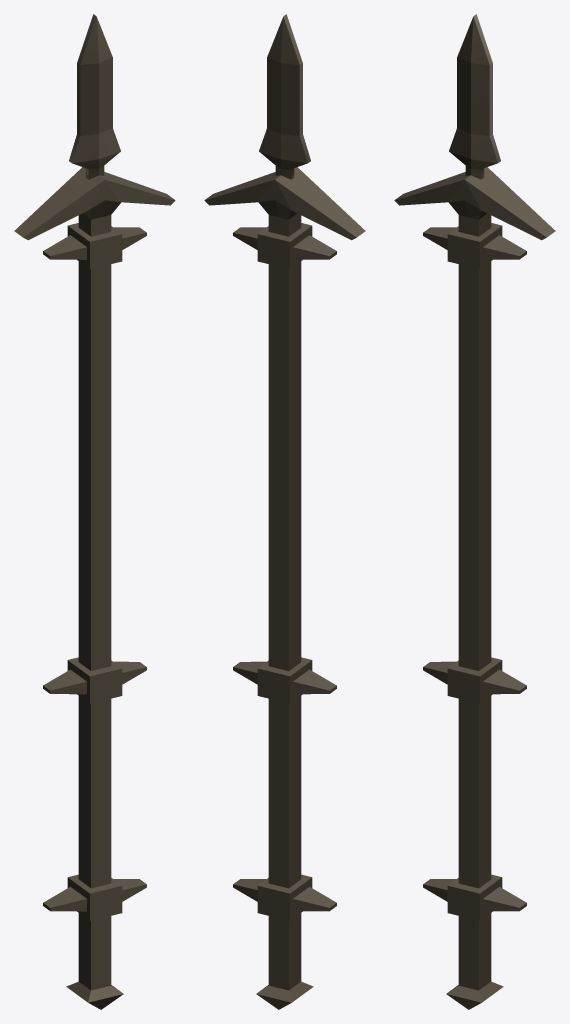
File: SF_Wep_Undead_Spear_02.fbx
3 views of the same model, side by side, from view 1: azimuth 30°, elevation 25°; view 2: azimuth 150°, elevation 25°; view 3: azimuth 330°, elevation 25° (orthographic).
Visible parts, largest first — view 1: SF_Wep_Undead_Spear_02; view 2: SF_Wep_Undead_Spear_02; view 3: SF_Wep_Undead_Spear_02.
Boxes of the visible parts, box(x1,y1,x2,y2) form: SF_Wep_Undead_Spear_02: box(14, 14, 175, 1009); SF_Wep_Undead_Spear_02: box(204, 14, 365, 1009); SF_Wep_Undead_Spear_02: box(394, 14, 555, 1009).
Size of the model in its own units: 0.7353 by 4.56 by 0.1868.
